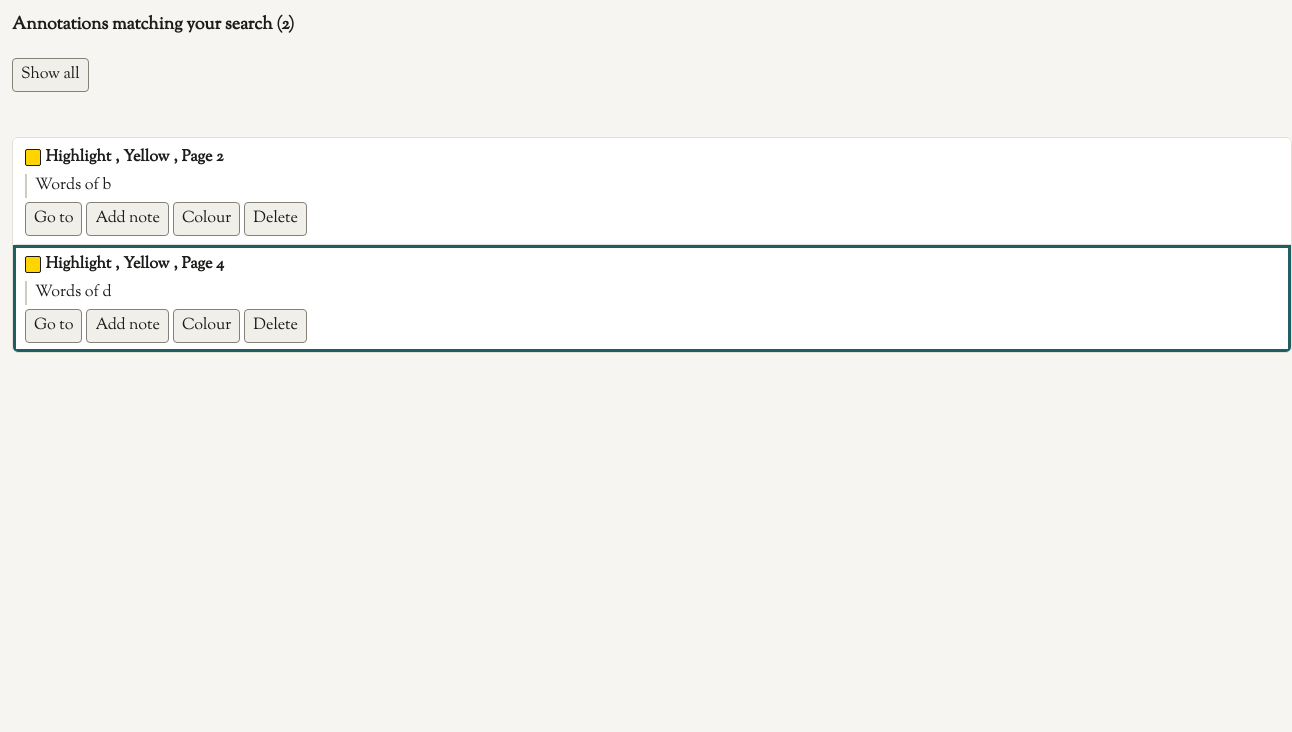
Scenario: AnnotationList filtered by a search (Task R12) › Show all returns to the full list with the focus kept on the same entry
Click the button "Show all" at [50, 75], box [12, 58, 89, 92]
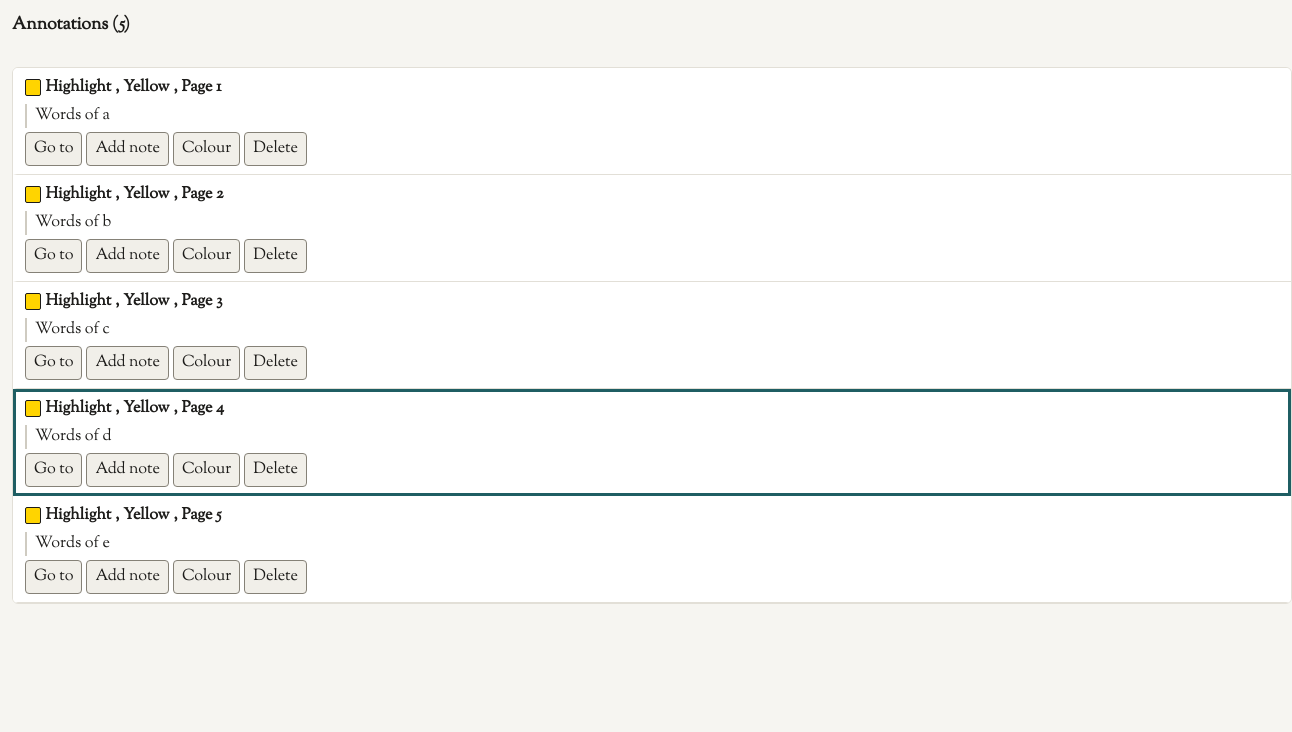
Result: the heading "Annotations (5)" is shown at [12, 12, 130, 37]
Result: the button "Show all" is gone
